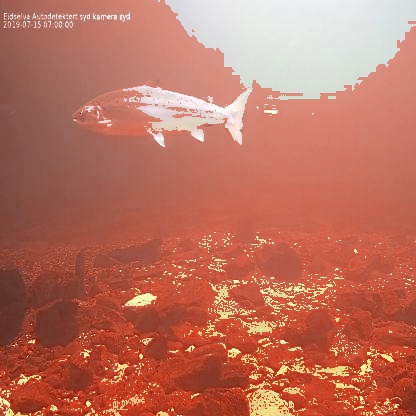salmon: (69, 74, 253, 152)
